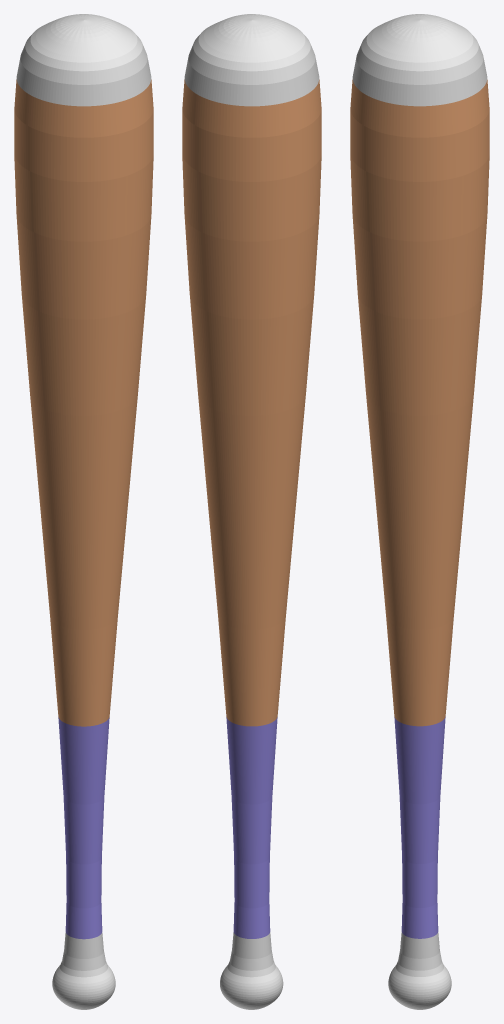
File: BaseballBat_1.fbx
3 renders of one model, left to right at view 1: azimuth 90°, elevation 25°; view 2: azimuth 150°, elevation 25°; view 3: azimuth 270°, elevation 25°, orthographic.
Parts seen in each view (by area): view 1: BaseballBat; view 2: BaseballBat; view 3: BaseballBat.
Part boxes in pixels (x1,y1,x2,y2): BaseballBat: [14, 14, 153, 1009]; BaseballBat: [182, 14, 321, 1009]; BaseballBat: [350, 14, 489, 1009].
Bounding box in the file's own units: 13.57 × 106 × 13.57.
